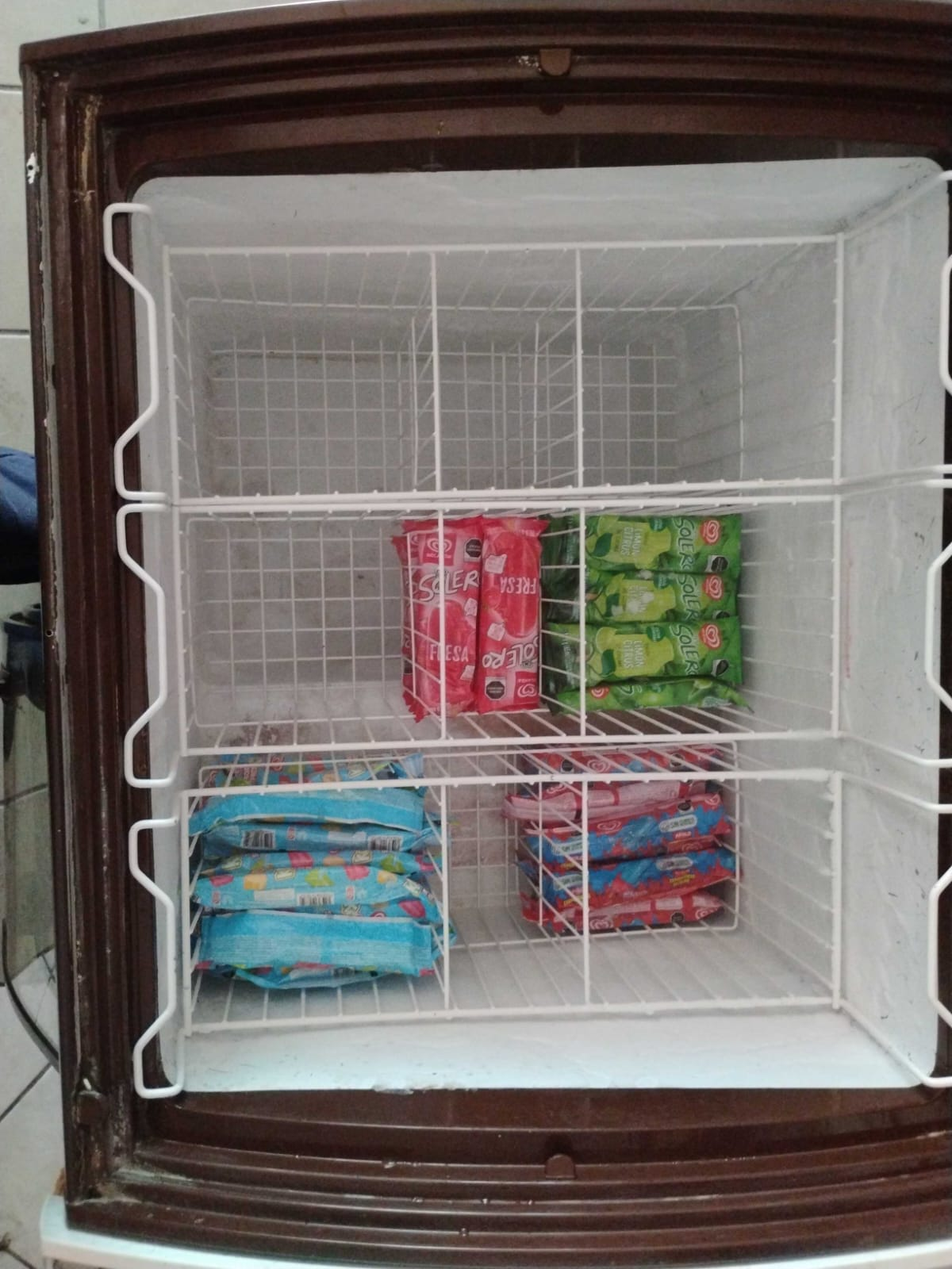rejilla: (193, 1000, 834, 1030), (180, 481, 835, 503), (187, 732, 834, 754), (185, 773, 831, 795), (170, 237, 839, 252), (179, 498, 837, 512), (166, 249, 178, 500), (173, 509, 185, 755), (834, 241, 842, 480), (434, 254, 440, 491), (184, 797, 190, 1033), (833, 498, 839, 731), (442, 787, 448, 1012), (583, 781, 589, 1005), (835, 778, 840, 1006), (578, 250, 582, 487), (441, 509, 445, 743), (581, 508, 584, 739)
